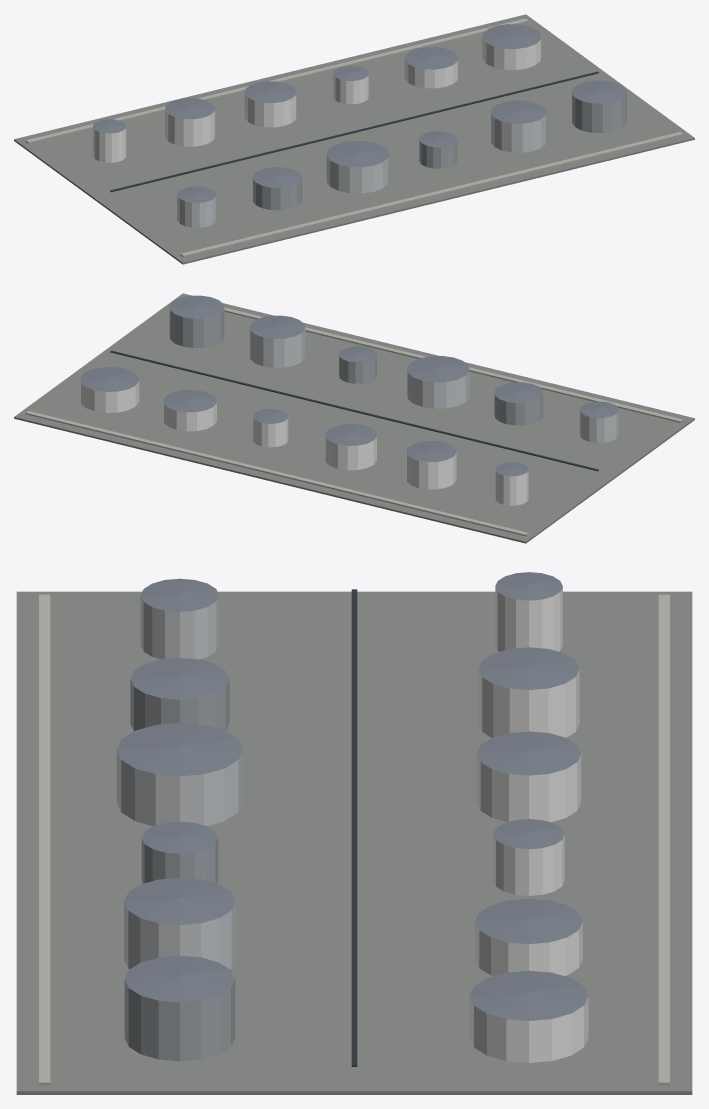
File: scenery-tanks.glb
3 renders of one model, top to bottom at view 1: azimuth 30°, elevation 25°; view 2: azimuth 150°, elevation 25°; view 3: azimuth 270°, elevation 25°, orthographic. The views are drawn at different scales.
Parts seen in each view (by area): view 1: tanks; view 2: tanks; view 3: tanks.
Part boxes in pixels (x1,y1,x2,y2): tanks: (14,14,694,264); tanks: (14,293,694,543); tanks: (16,572,692,1094).
Bounding box in the file's own units: 420 × 25.79 × 240.
Materials: 1 (1 with a texture image).
